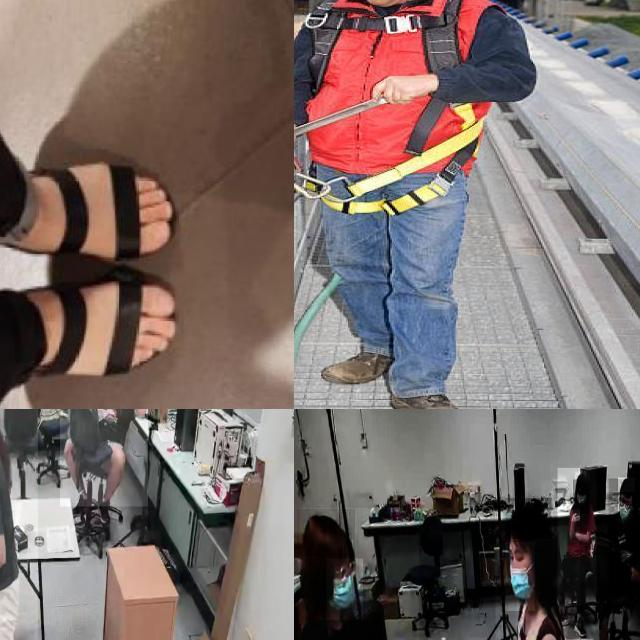Harness: (296, 0, 491, 219)
Sandals: (0, 276, 179, 378), (0, 160, 177, 262)
face_mask: (327, 558, 363, 620), (505, 542, 535, 611), (573, 479, 589, 514), (618, 495, 633, 531)
hand_noglove: (103, 409, 116, 423), (570, 510, 580, 522)
head_nohelmet: (298, 509, 356, 557), (506, 498, 552, 540), (618, 478, 636, 492), (575, 471, 591, 484)
person: (298, 508, 419, 640), (495, 501, 580, 640), (0, 409, 38, 640), (59, 409, 148, 507), (557, 468, 597, 606), (608, 478, 640, 598)
